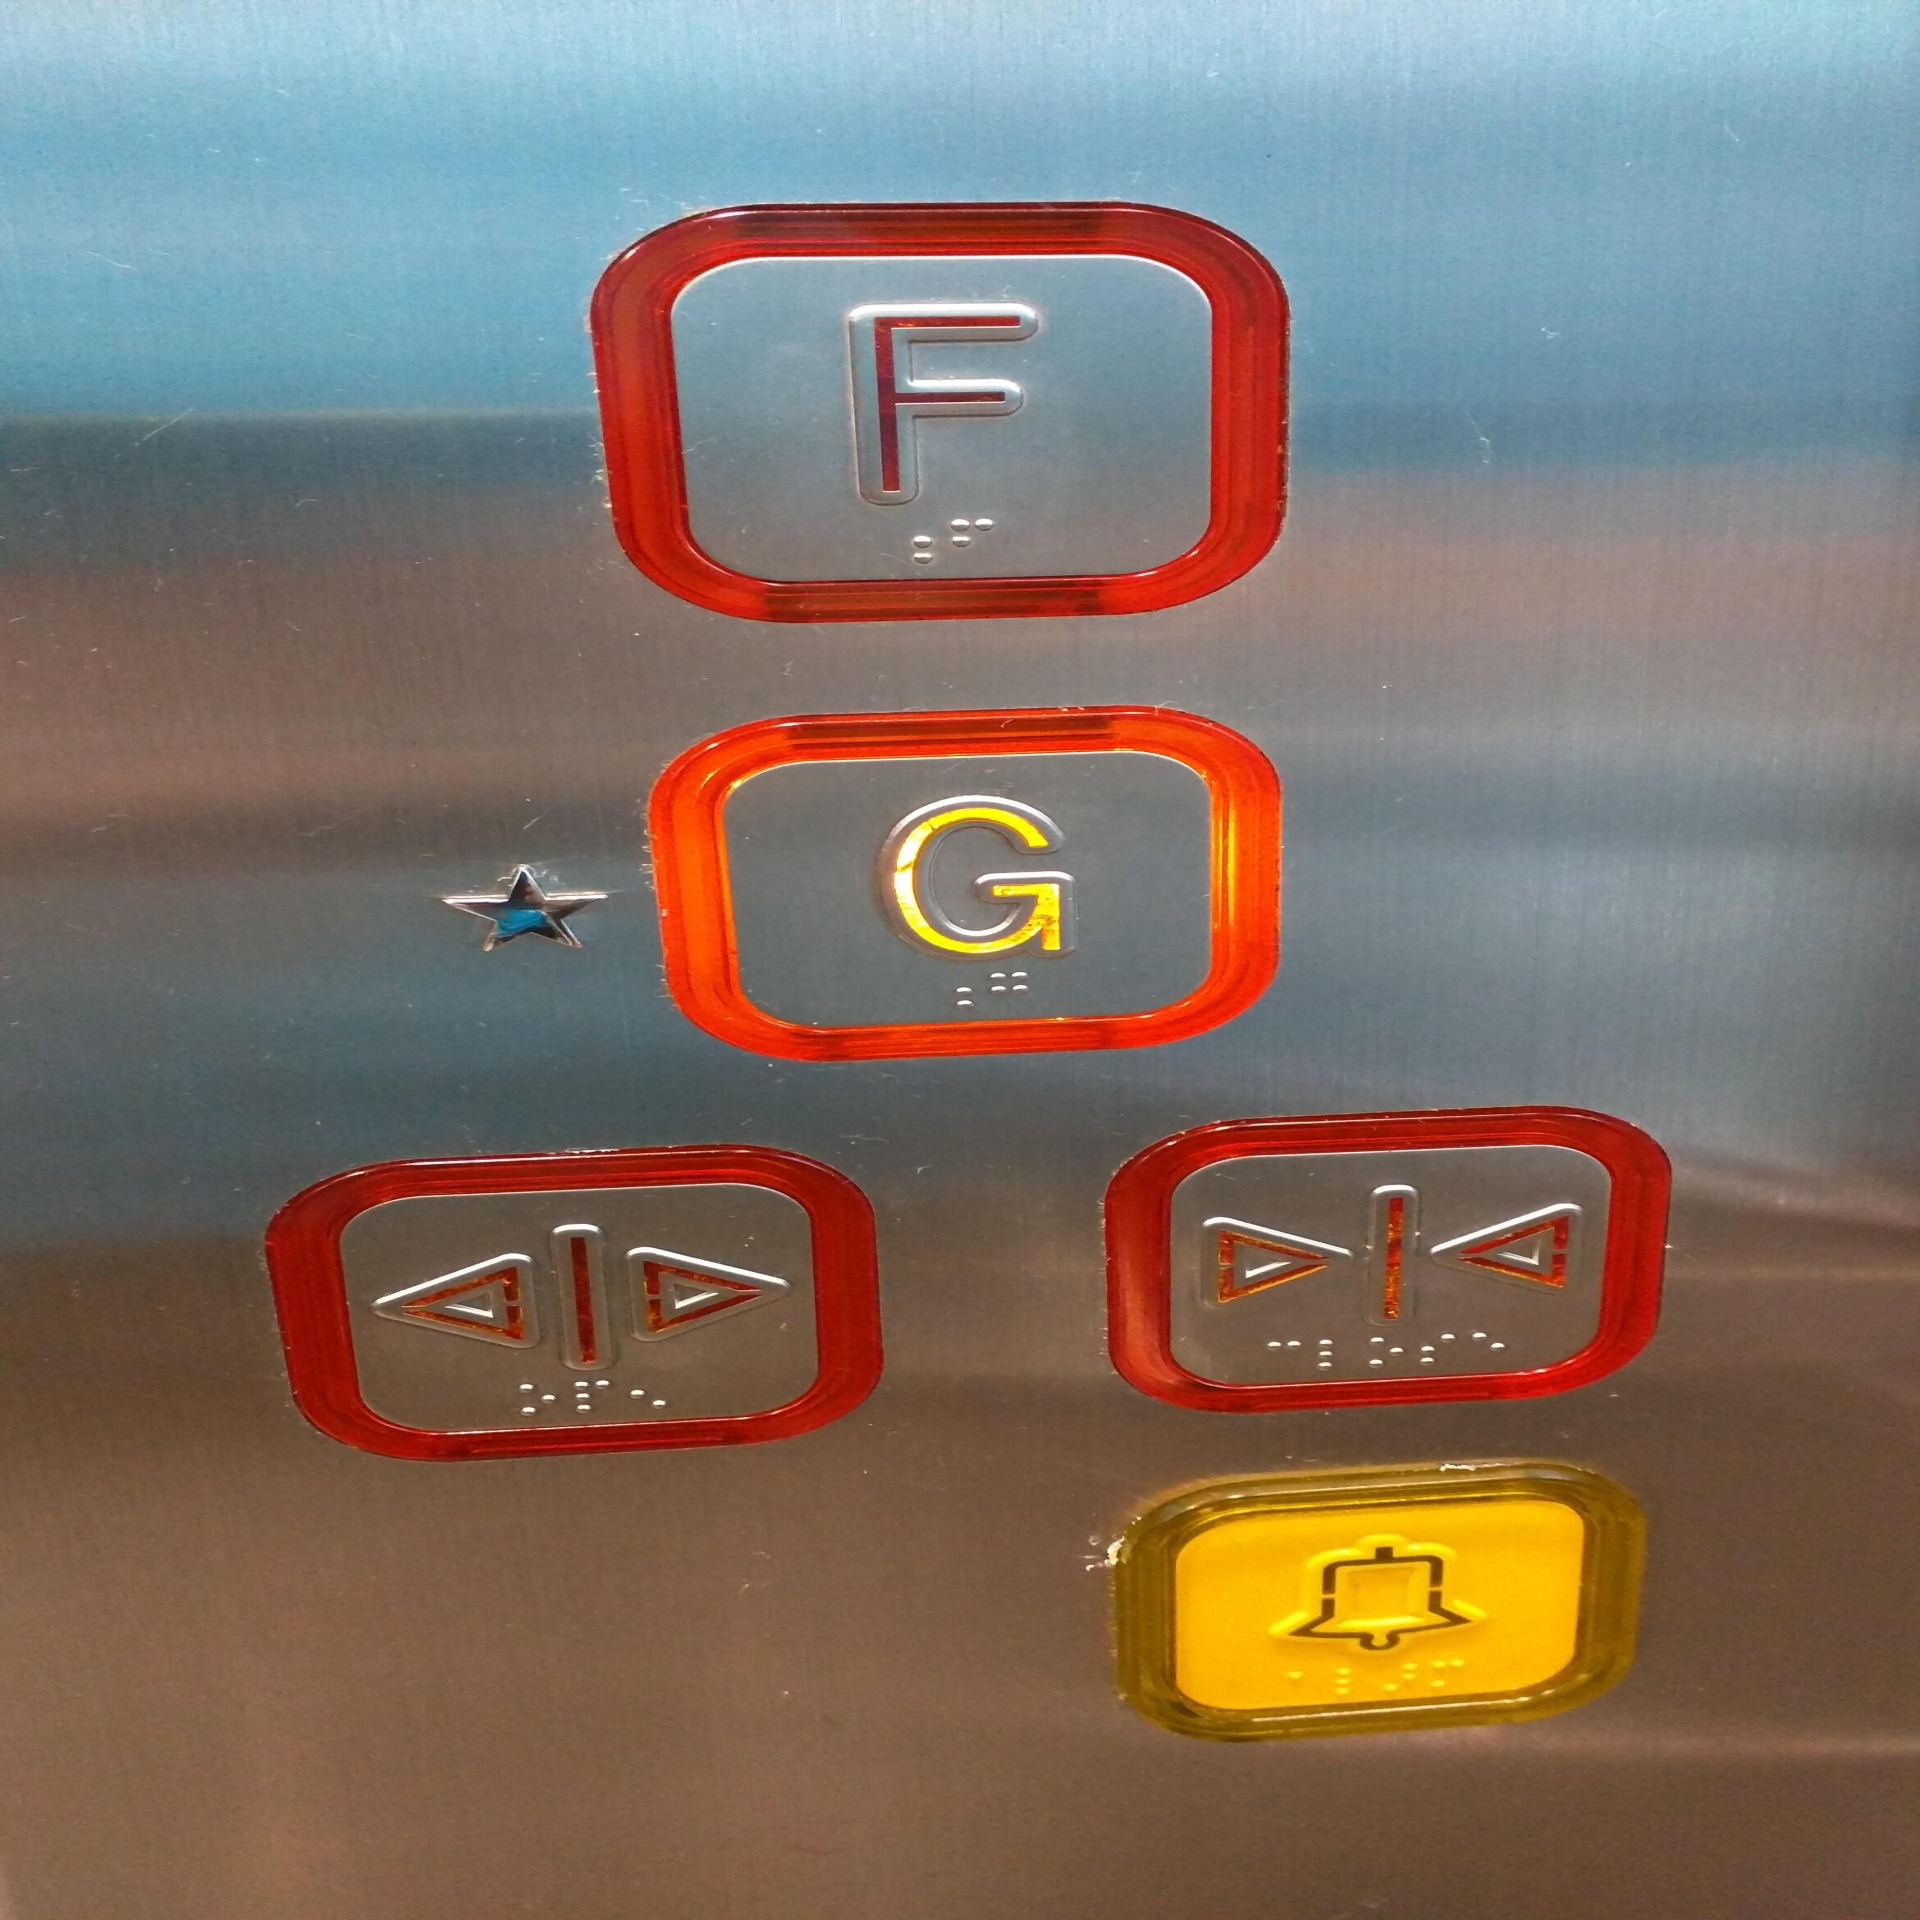F: (585, 188, 1291, 621)
G: (644, 702, 1276, 1060)
alarm: (1111, 1458, 1649, 1742)
close: (1101, 1108, 1674, 1412)
open: (260, 1148, 886, 1458)
